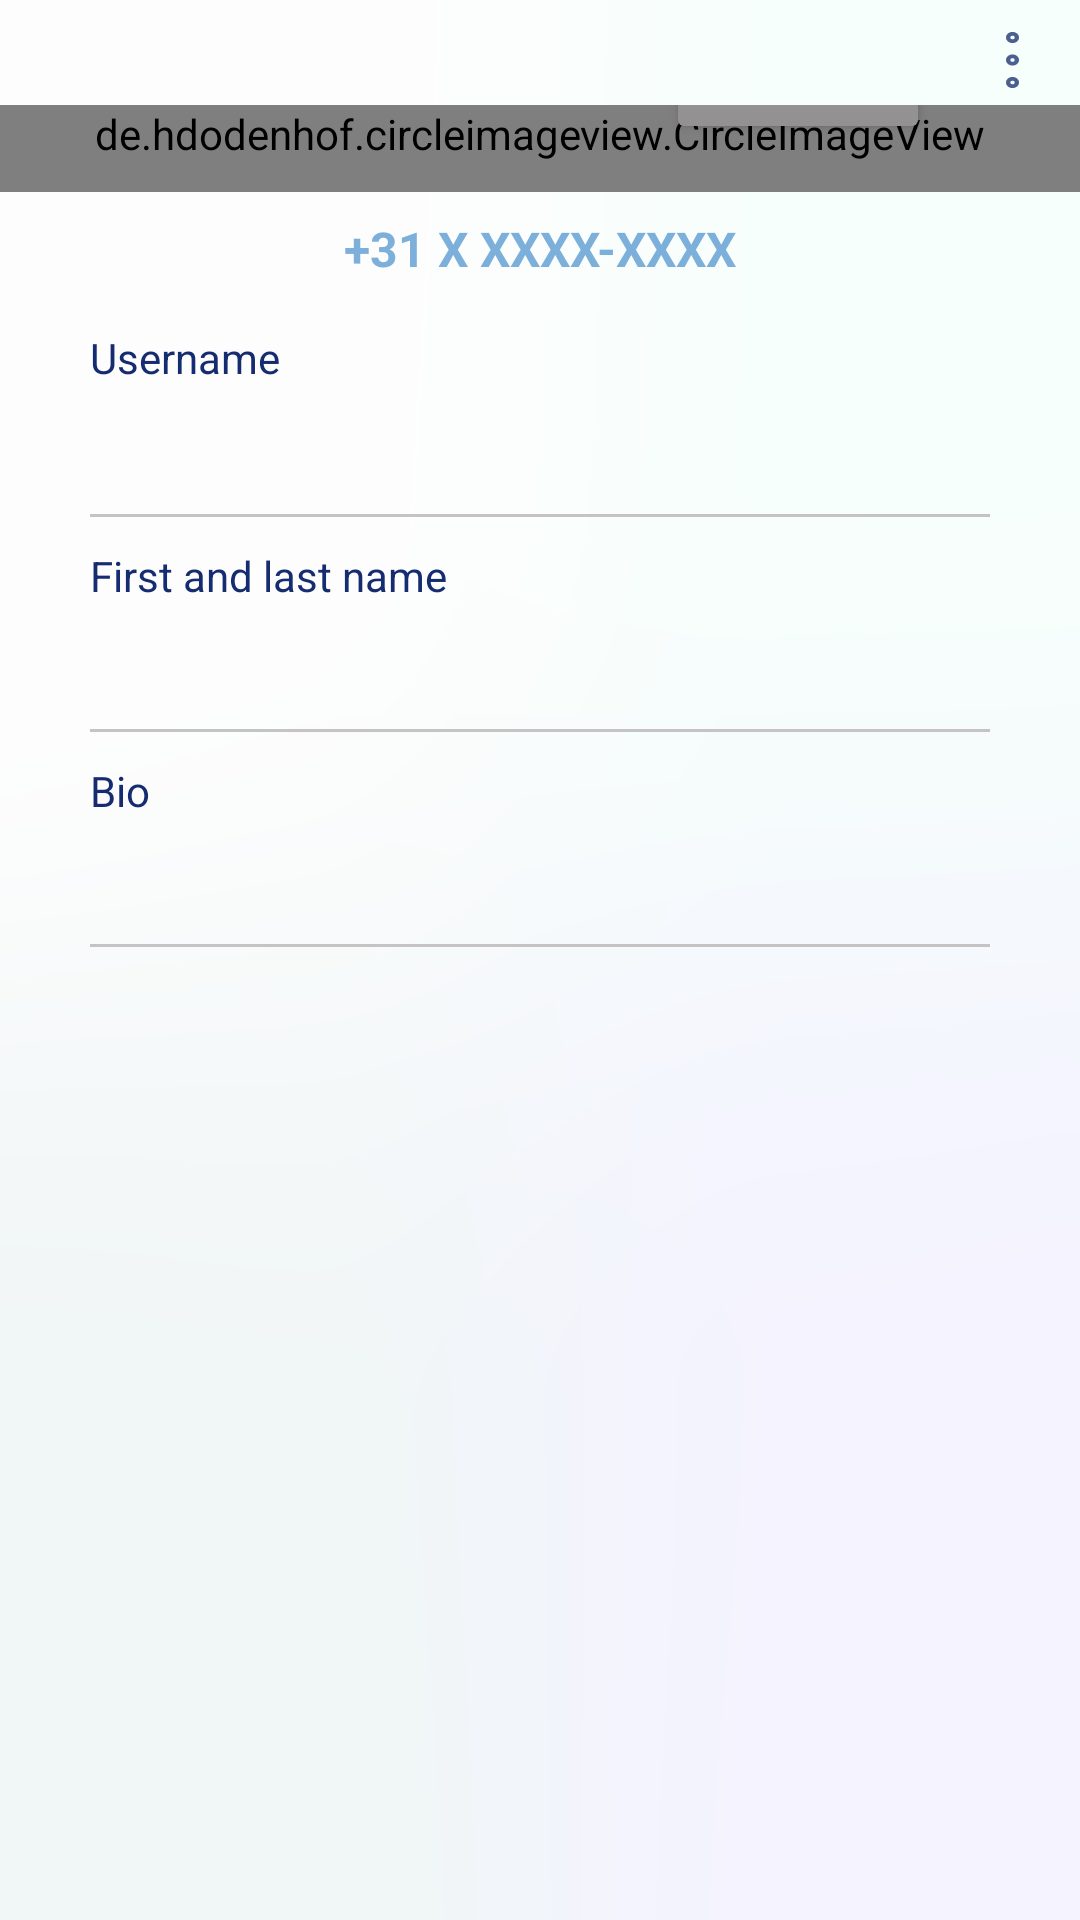

Locate icon controls on the screen. Image size 1080w x 1920h, boxes as (x1, y1, x2, y2).
ellypsis vertical: (1006, 32, 1019, 88)
